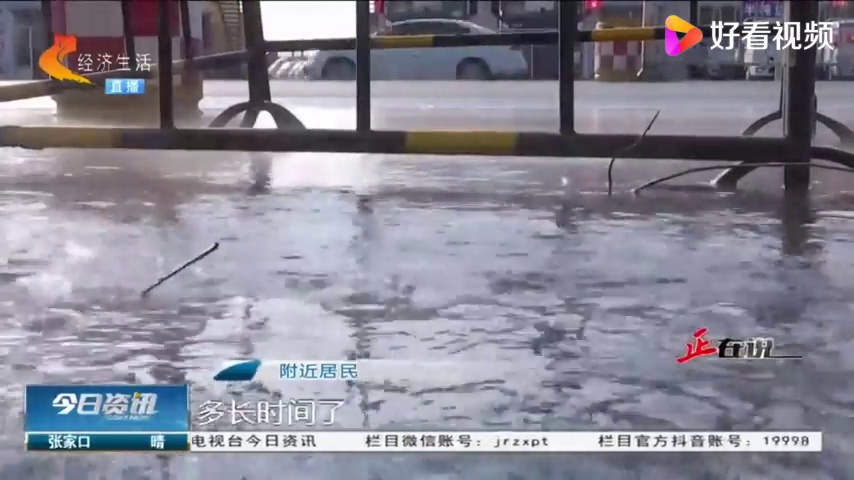puddle: (1, 130, 854, 407)
